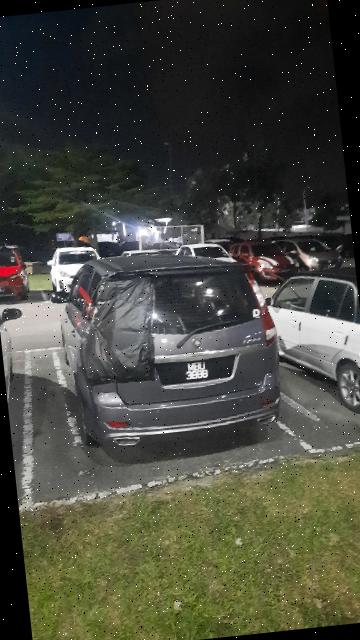License_Plate: (154, 353, 240, 388)
car: (45, 241, 294, 461), (262, 262, 360, 419)
